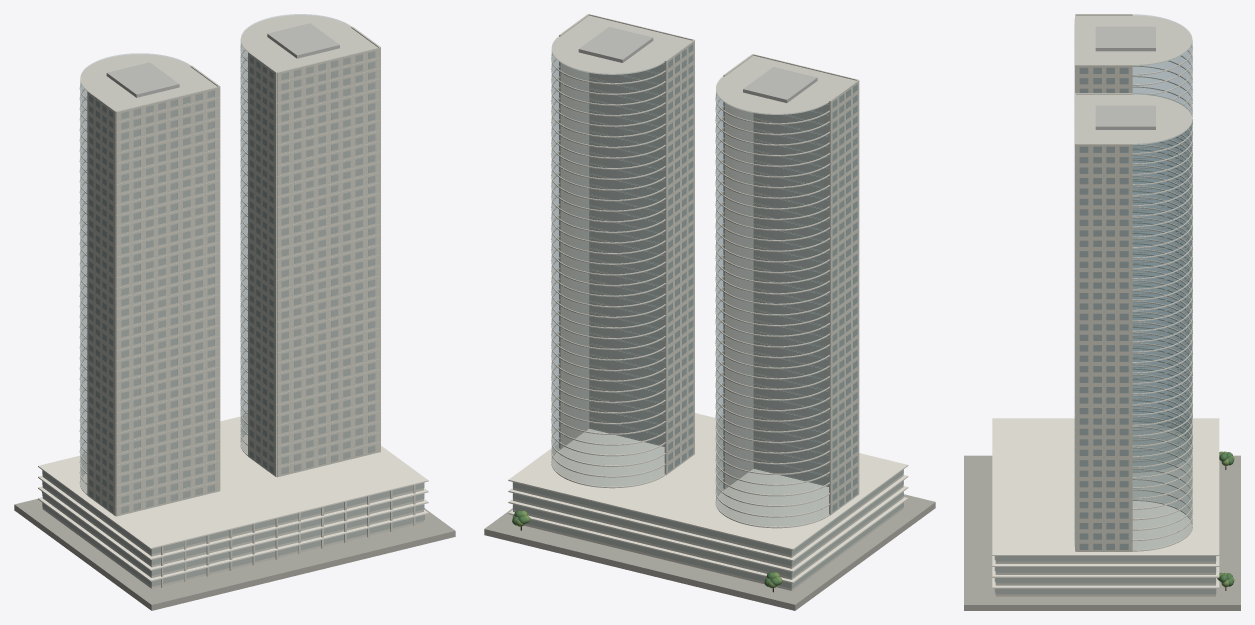
Rendered from map.glb.
The picture shows the model from 3 angles, left to right: view 1: azimuth 30°, elevation 25°; view 2: azimuth 150°, elevation 25°; view 3: azimuth 270°, elevation 25°; orthographic projection. The views are drawn at different scales.
Bounding box in the file's own units: 106 × 152 × 83.
